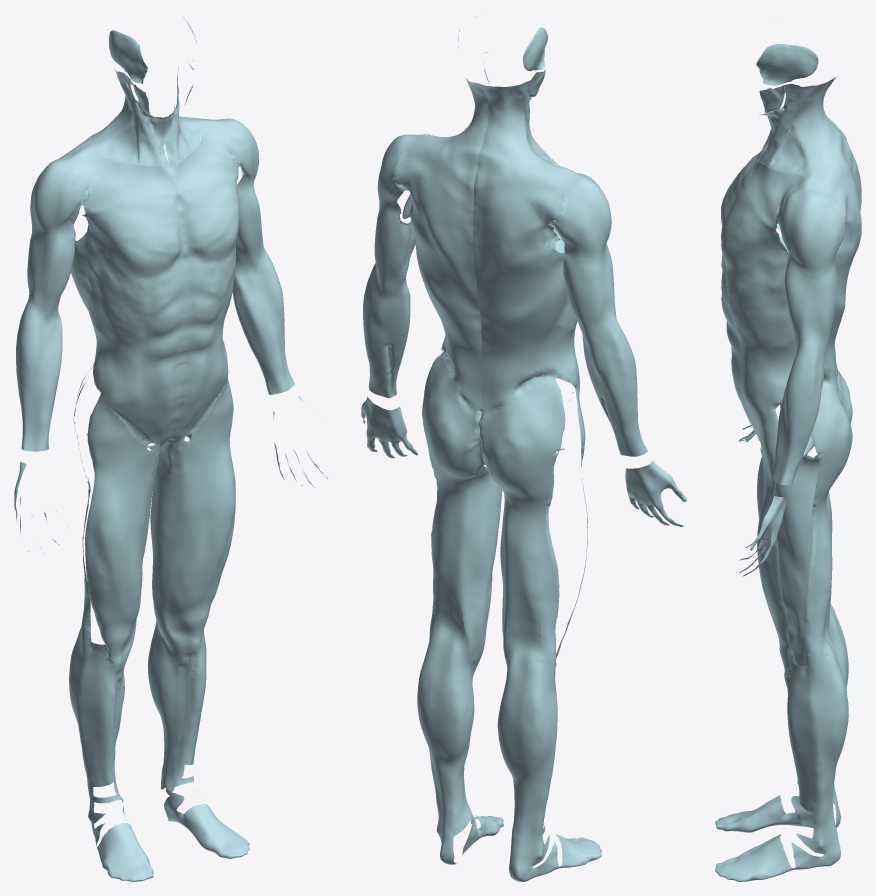
The model's file is fascia_system.glb.
The picture shows the model from 3 angles, left to right: view 1: azimuth 30°, elevation 25°; view 2: azimuth 150°, elevation 25°; view 3: azimuth 270°, elevation 25°; orthographic projection. The views are drawn at different scales.
Visible parts, largest first — view 1: Investing abdominal fascia.r, Fascia lata.l, Fascia lata.r, Crural fascia.l, Crural fascia.r, Pectoral fascia.r, Investing abdominal fascia.l, Pectoral fascia.l, Antebrachial fascia.r, Antebrachial fascia.l, Superficial investing cervical fascia.r, Deltoid fascia.r (+5 smaller); view 2: Investing abdominal fascia.r, Fascia lata.r, Fascia lata.l, Crural fascia.r, Investing abdominal fascia.l, Crural fascia.l, Superficial investing cervical fascia.r, Antebrachial fascia.r, Antebrachial fascia.l, Deltoid fascia.r, Superficial investing cervical fascia.l, Brachial fascia.r (+7 smaller); view 3: Investing abdominal fascia.l, Crural fascia.l, Fascia lata.l, Superficial investing cervical fascia.l, Fascia lata.r, Deltoid fascia.l, Pectoral fascia.l, Antebrachial fascia.l, Crural fascia.r, Brachial fascia.l, Superficial layer of temporal fascia.l, Dorsal fascia of hand.l (+5 smaller).
Boxes of the visible parts, bbox=[...] form: Investing abdominal fascia.r: bbox=[71, 223, 187, 444]; Fascia lata.l: bbox=[147, 378, 235, 627]; Fascia lata.r: bbox=[73, 367, 167, 648]; Crural fascia.l: bbox=[148, 611, 249, 858]; Crural fascia.r: bbox=[69, 627, 153, 881]; Pectoral fascia.r: bbox=[79, 162, 184, 279]; Investing abdominal fascia.l: bbox=[169, 248, 236, 439]; Pectoral fascia.l: bbox=[169, 141, 240, 259]; Antebrachial fascia.r: bbox=[16, 300, 62, 451]; Antebrachial fascia.l: bbox=[232, 247, 294, 394]; Superficial investing cervical fascia.r: bbox=[58, 68, 169, 167]; Deltoid fascia.r: bbox=[30, 152, 114, 241]; Investing abdominal fascia.r: bbox=[473, 193, 579, 414]; Fascia lata.r: bbox=[479, 377, 587, 667]; Fascia lata.l: bbox=[422, 351, 502, 647]; Crural fascia.r: bbox=[497, 655, 601, 881]; Investing abdominal fascia.l: bbox=[405, 163, 482, 412]; Crural fascia.l: bbox=[417, 639, 503, 864]; Superficial investing cervical fascia.r: bbox=[474, 72, 576, 203]; Antebrachial fascia.r: bbox=[581, 317, 647, 456]; Antebrachial fascia.l: bbox=[363, 263, 410, 398]; Deltoid fascia.r: bbox=[527, 159, 611, 260]; Superficial investing cervical fascia.l: bbox=[403, 78, 488, 194]; Brachial fascia.r: bbox=[561, 238, 616, 335]; Investing abdominal fascia.l: bbox=[721, 184, 861, 439]; Crural fascia.l: bbox=[715, 648, 848, 881]; Fascia lata.l: bbox=[757, 380, 852, 666]; Superficial investing cervical fascia.l: bbox=[759, 76, 855, 195]; Fascia lata.r: bbox=[757, 368, 852, 626]; Deltoid fascia.l: bbox=[778, 173, 850, 279]; Pectoral fascia.l: bbox=[721, 161, 783, 276]; Antebrachial fascia.l: bbox=[771, 339, 827, 484]; Crural fascia.r: bbox=[715, 610, 848, 832]; Brachial fascia.l: bbox=[784, 251, 837, 348]; Superficial layer of temporal fascia.l: bbox=[756, 44, 818, 85]; Dorsal fascia of hand.l: bbox=[738, 496, 787, 576].
Bounding box in the file's own units: 0.6708 × 1.66 × 0.2686.
